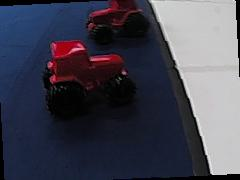Tracktor: (39, 36, 136, 113), (86, 0, 148, 42)
